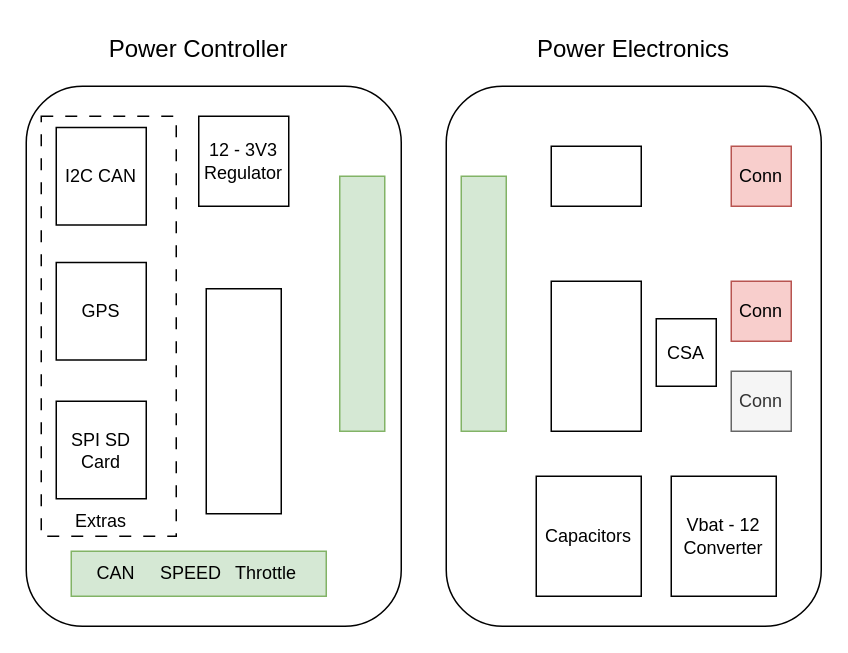
Image size: 848x653. Some labels were removed from this diagram. Here are the shapes that lost their labels. From the top down, the box of each, then its label:
(550, 145, 641, 206): Joulemeter
(550, 280, 641, 431): Power Stage
(205, 287, 281, 514): micro controller
